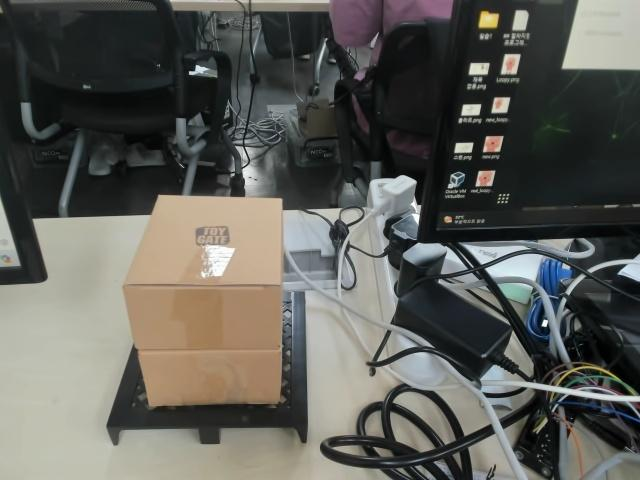box: (103, 194, 311, 445)
